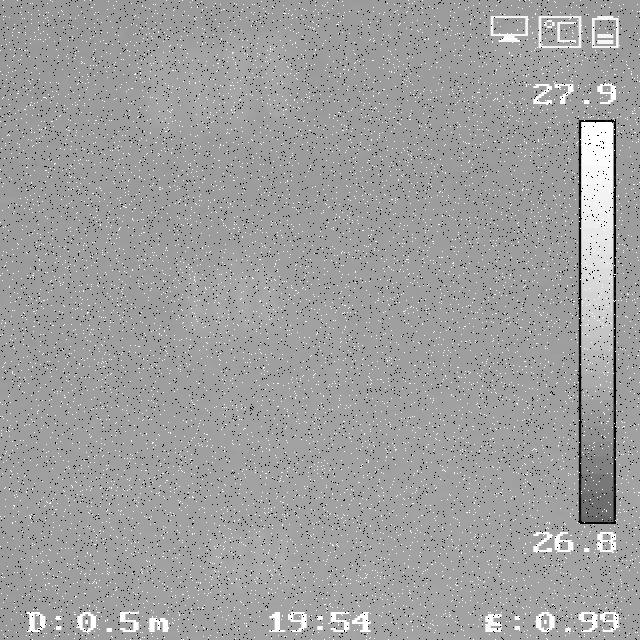threshold 4-bar target: (141, 34, 300, 136), (182, 267, 282, 334), (207, 527, 293, 589)
